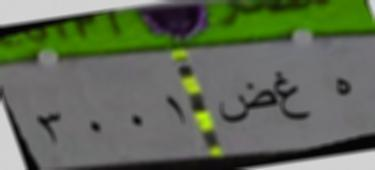0: (78, 114, 109, 143), (124, 110, 148, 136)
1: (162, 91, 188, 128)
3: (30, 108, 67, 149)
daad: (216, 73, 274, 128)
ghayn: (274, 69, 314, 126)
haa: (322, 64, 363, 108)
